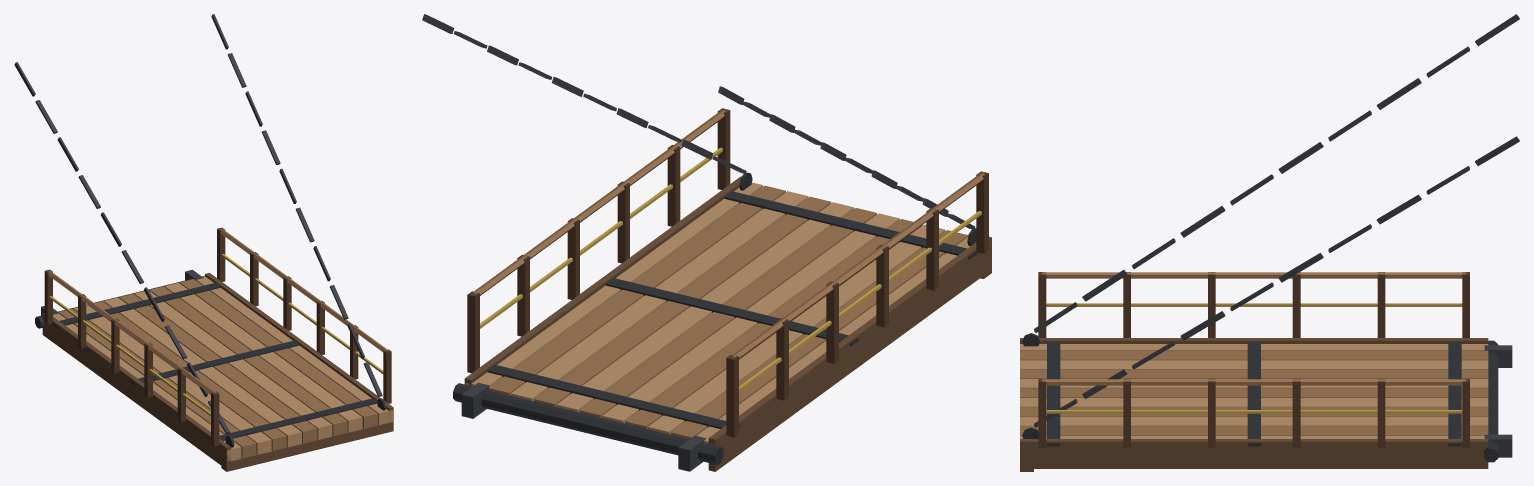
The model's file is castle_drawbridge.glb.
The picture shows the model from 3 angles, left to right: view 1: azimuth 30°, elevation 25°; view 2: azimuth 150°, elevation 25°; view 3: azimuth 270°, elevation 25°; orthographic projection. The views are drawn at different scales.
Visible parts, largest first — view 1: Hinge_mesh, ChainR_mesh, ChainL_mesh, LOD0; view 2: Hinge_mesh, LOD0, ChainR_mesh, ChainL_mesh; view 3: Hinge_mesh, ChainL_mesh, ChainR_mesh, LOD0.
Part boxes in pixels (left/top/right/bottom): Hinge_mesh: left=42, top=227, right=393, bottom=471; ChainR_mesh: left=211, top=14, right=382, bottom=396; ChainL_mesh: left=14, top=62, right=230, bottom=433; LOD0: left=35, top=269, right=204, bottom=328; Hinge_mesh: left=464, top=108, right=991, bottom=471; LOD0: left=453, top=382, right=723, bottom=471; ChainR_mesh: left=422, top=14, right=746, bottom=173; ChainL_mesh: left=718, top=86, right=975, bottom=229; Hinge_mesh: left=1020, top=272, right=1488, bottom=471; ChainL_mesh: left=1034, top=14, right=1519, bottom=332; ChainR_mesh: left=1034, top=136, right=1519, bottom=427; LOD0: left=1484, top=340, right=1512, bottom=462.
Size of the model in its own units: 5.24 by 6.82 by 8.96.
Materials: 1 (1 with a texture image).
